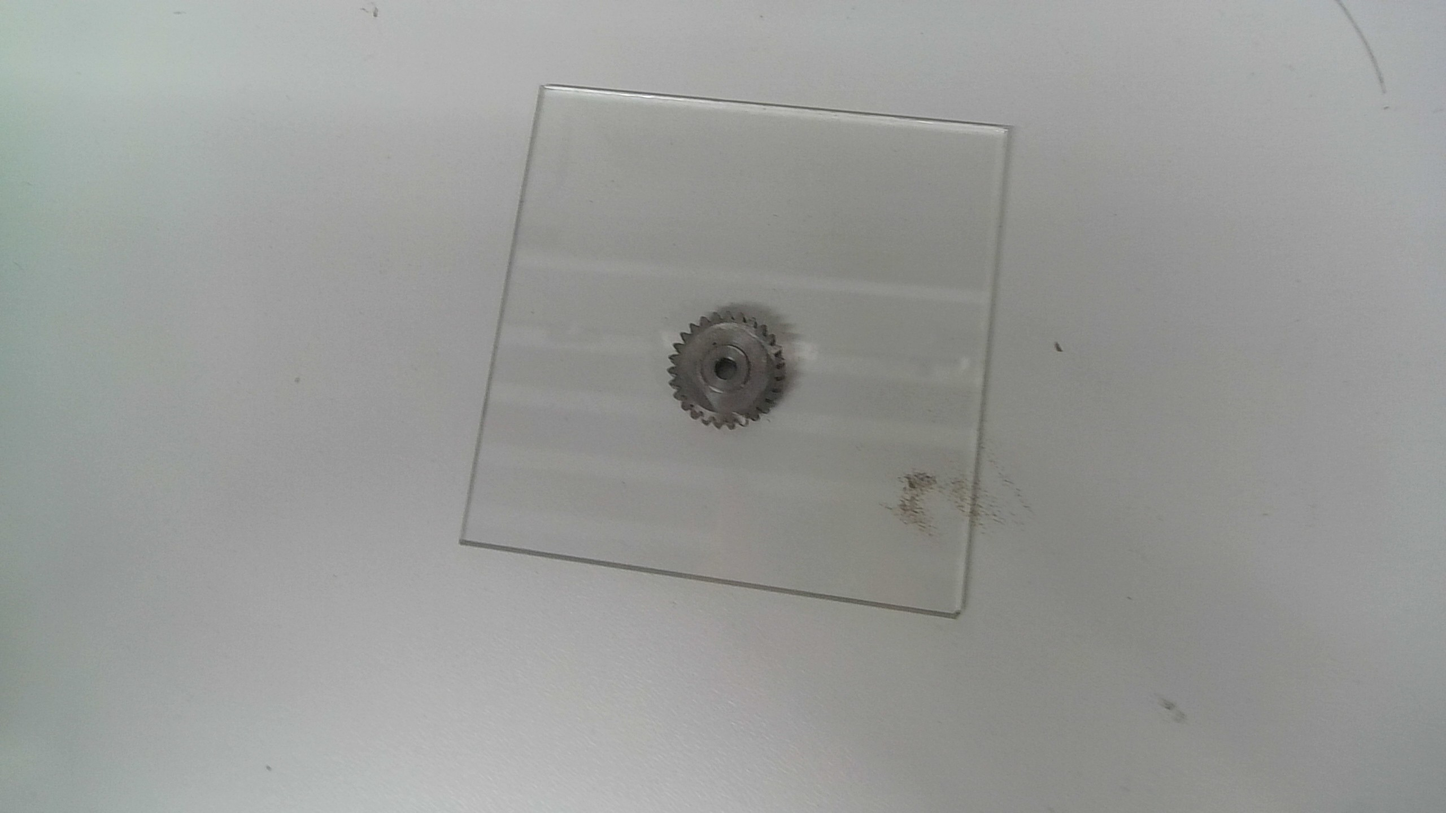gear: (665, 307, 788, 434)
